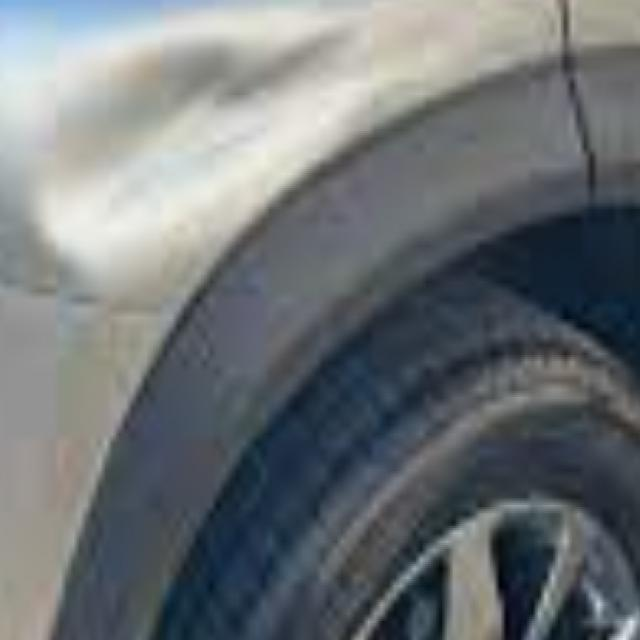dents: (22, 9, 328, 280)
